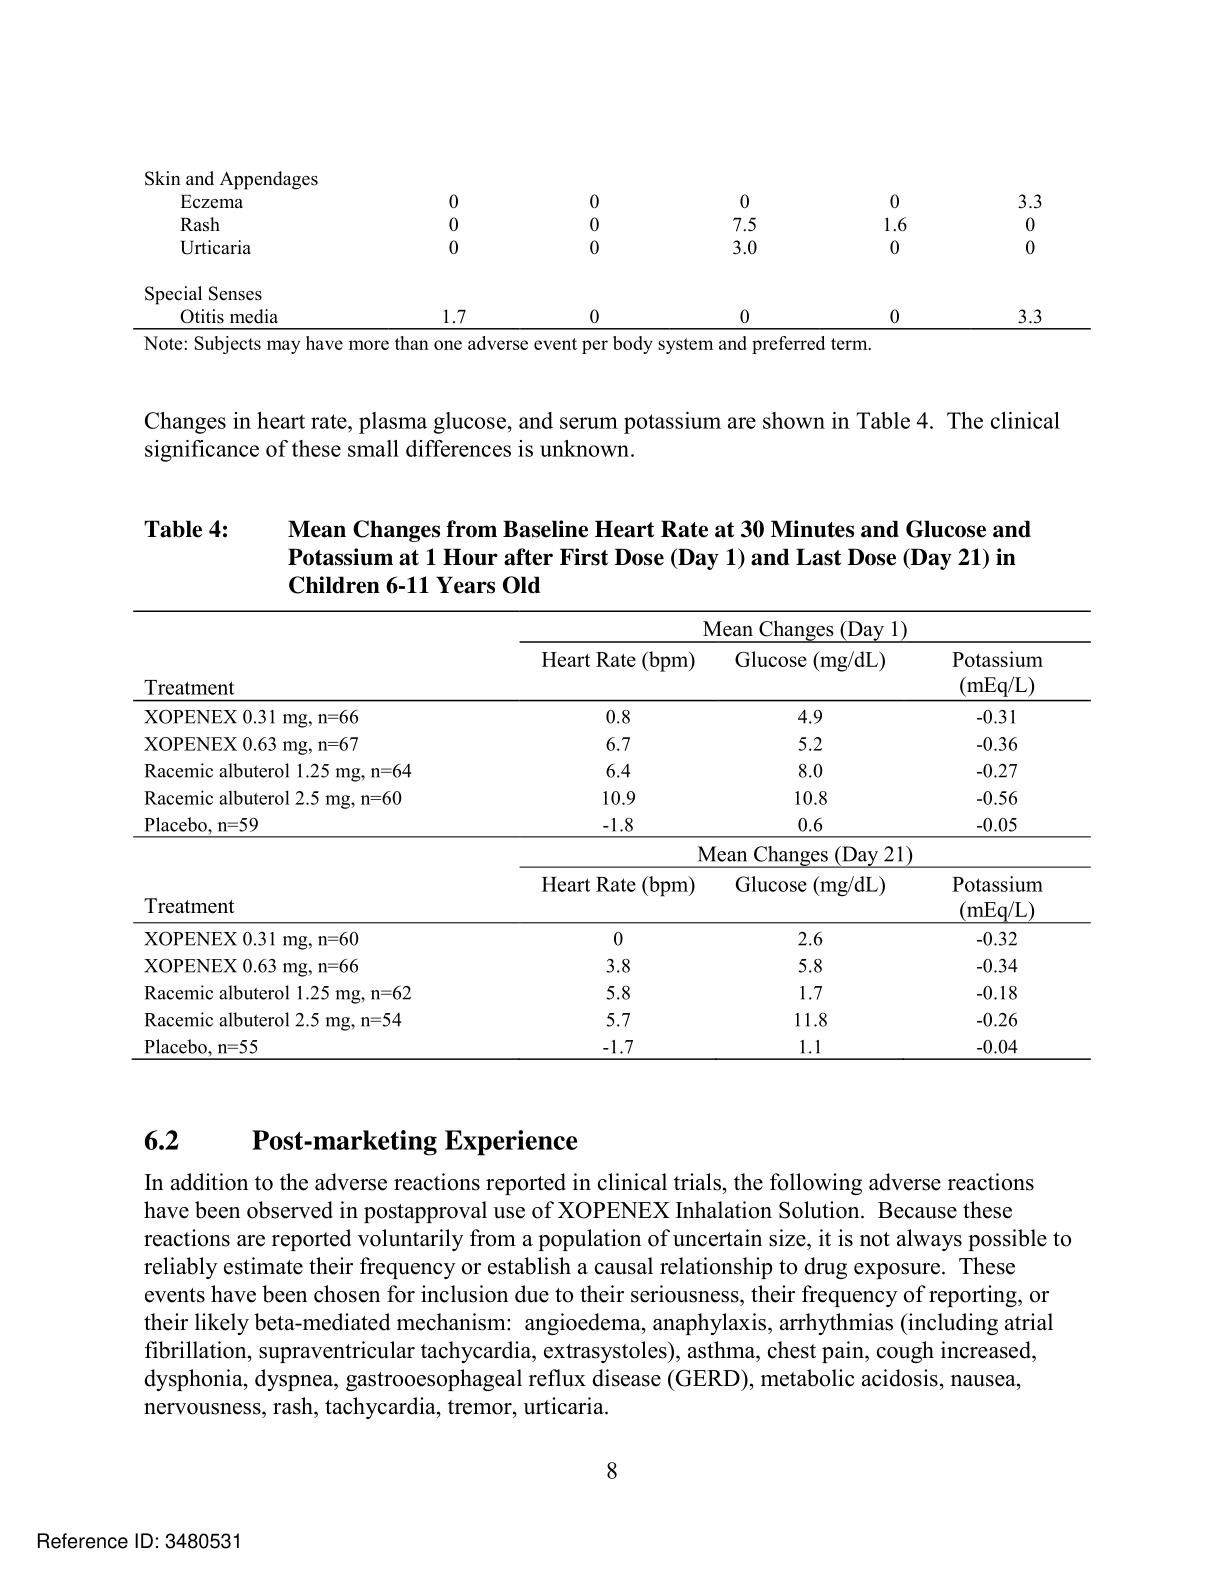nolines: (143, 165, 1049, 327)
partial_lined_merged_cells: (130, 609, 1094, 1062)
